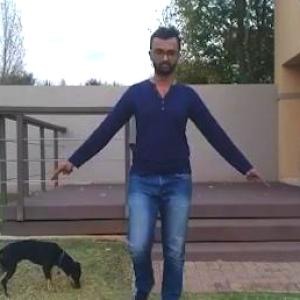land: (77, 44, 249, 299)
